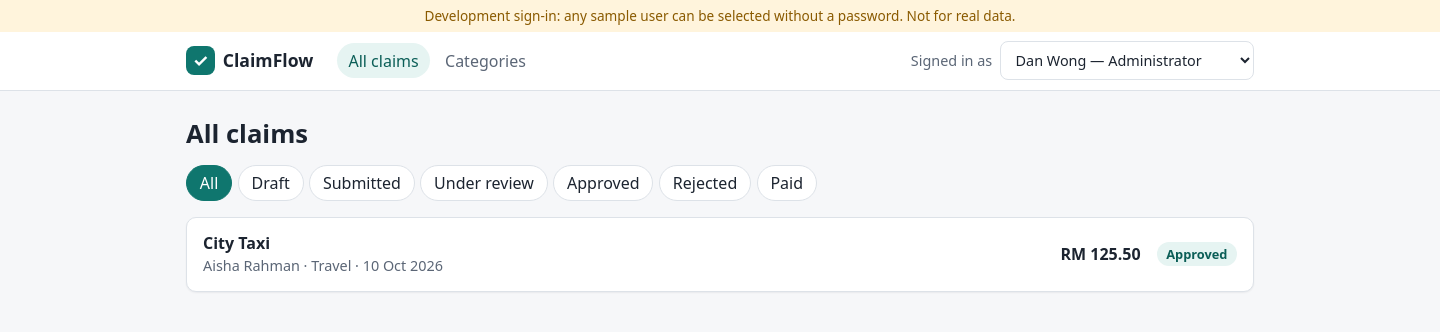
Test: administrator claim list › filters claims by status
Check: the text "Aisha Rahman · Travel · 10 Oct 2026" is shown, box [203, 256, 443, 275]
Click the button "Paid".
click(787, 183)  # box [757, 165, 817, 201]
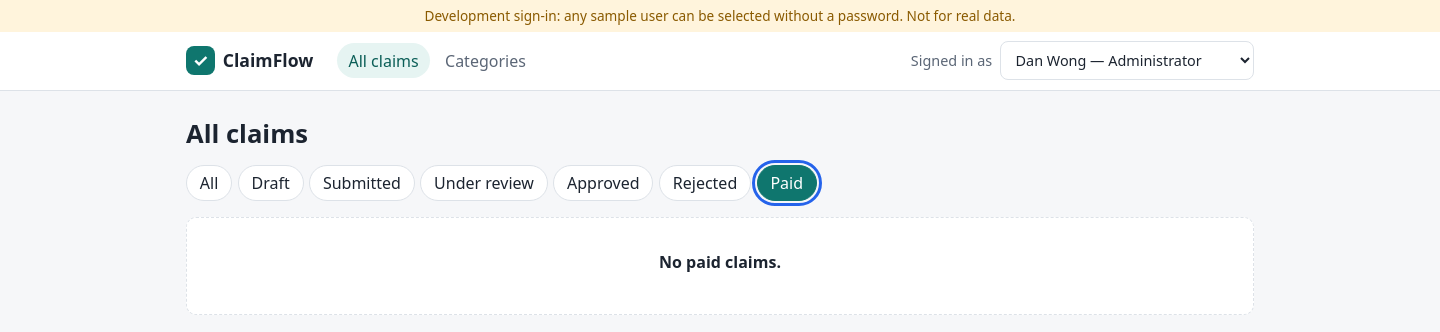
Check: the text "No paid claims." is shown, box [659, 251, 781, 273]
